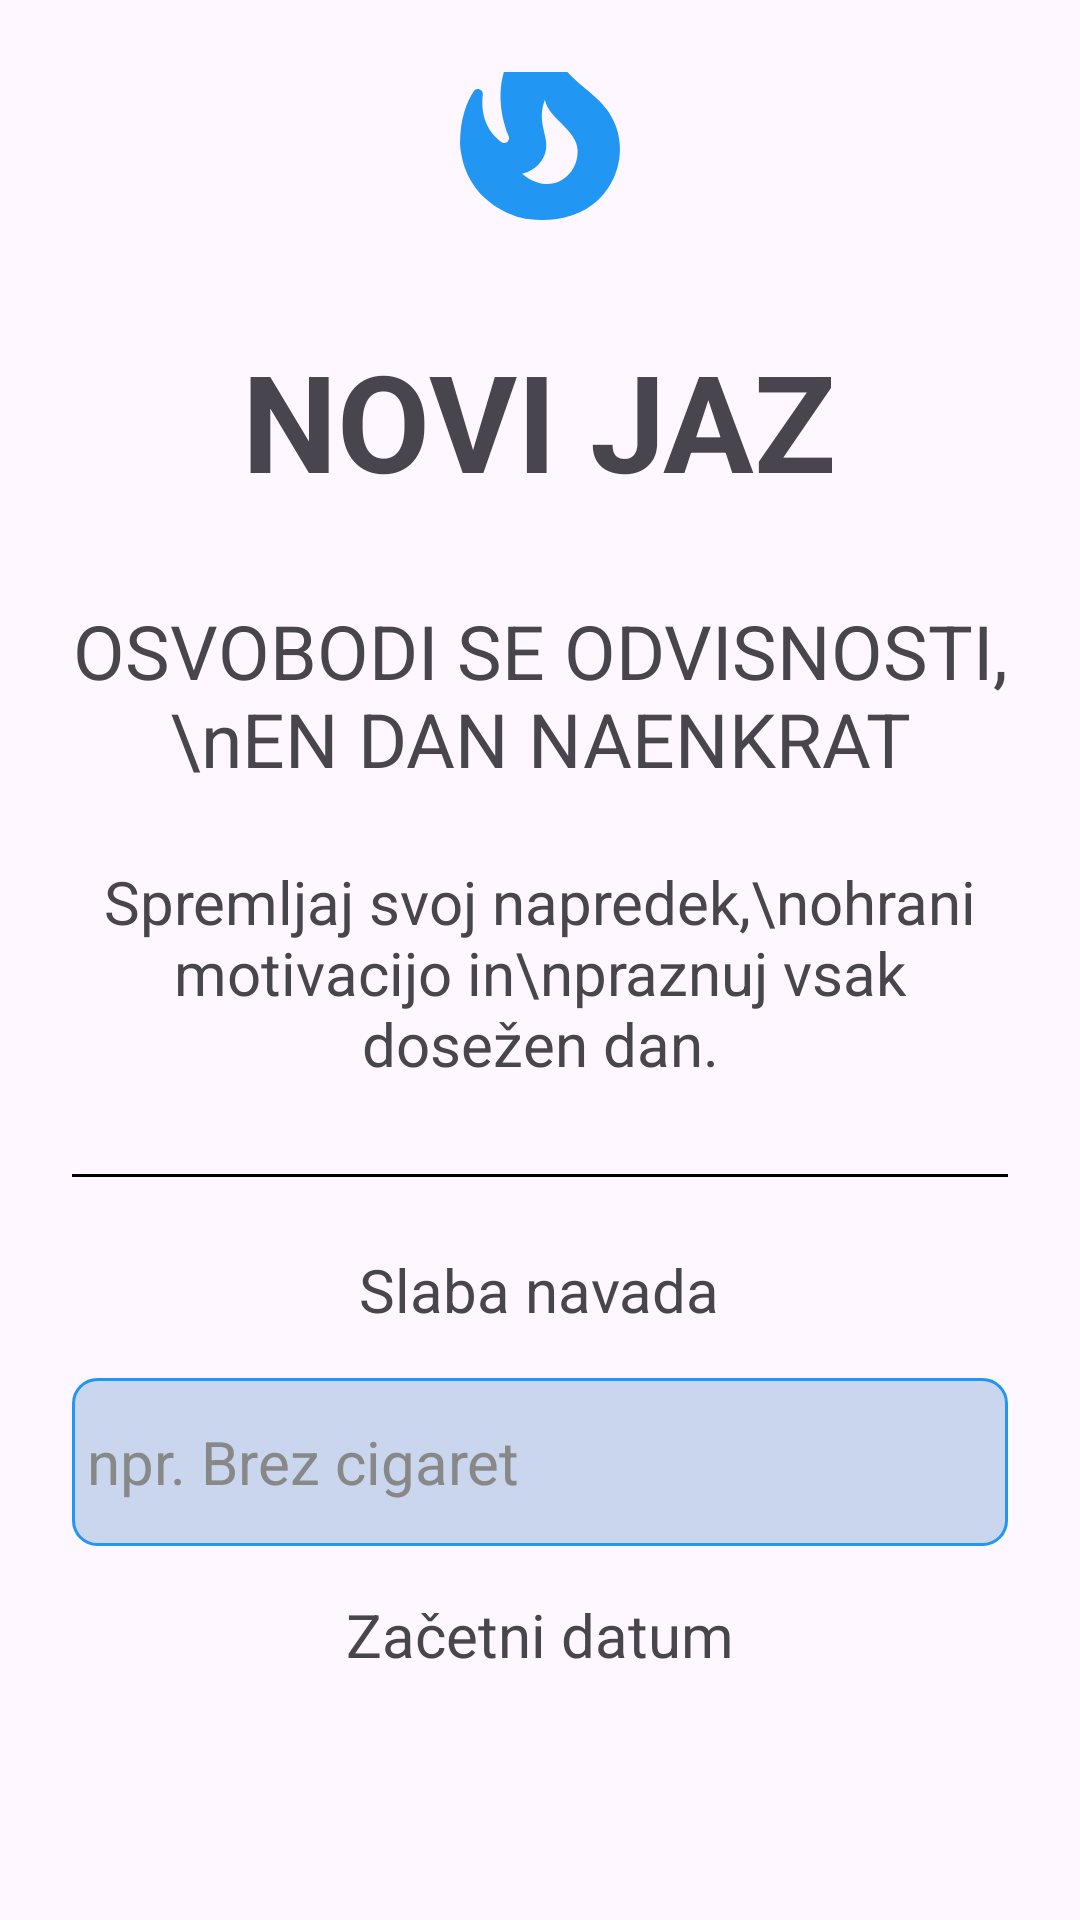

Icons on this 1080px×1920px Android screen, each with its box as (x1, y1, x2, y2):
local fire department: (460, 72, 620, 220)
